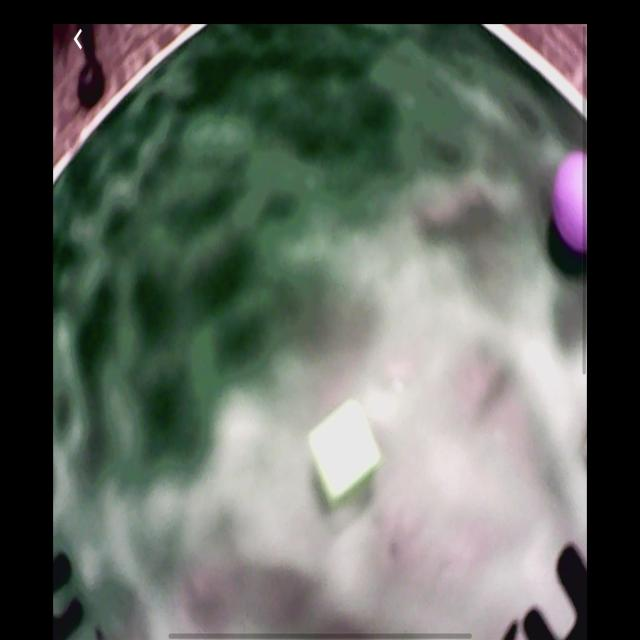ball: (553, 149, 590, 259)
